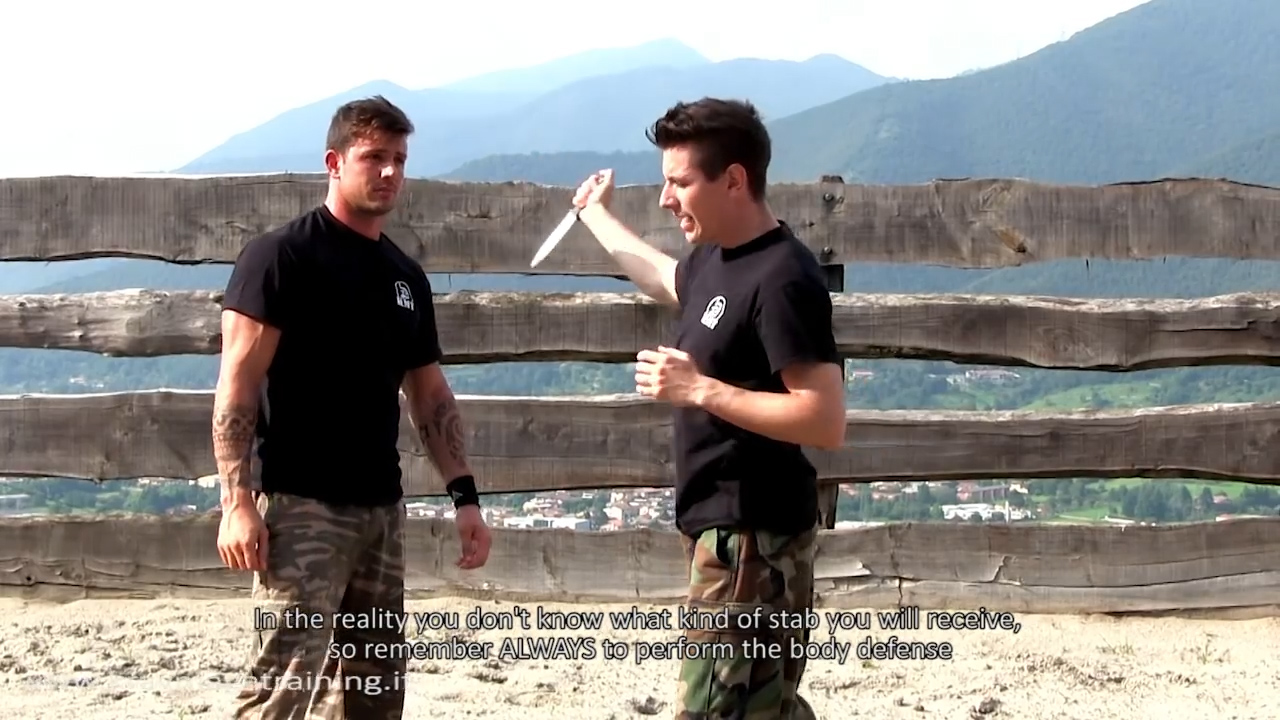knife: (525, 164, 617, 273)
